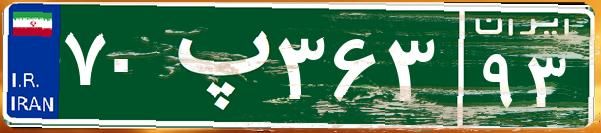0: (110, 28, 158, 105)
3: (385, 28, 445, 110), (273, 28, 330, 110), (525, 38, 570, 115)
6: (330, 28, 385, 110)
7: (57, 26, 110, 107)
9: (475, 38, 525, 113)
پ: (158, 15, 273, 115)
